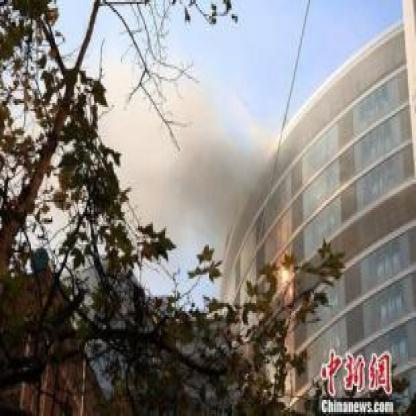smoke: (177, 109, 273, 234)
